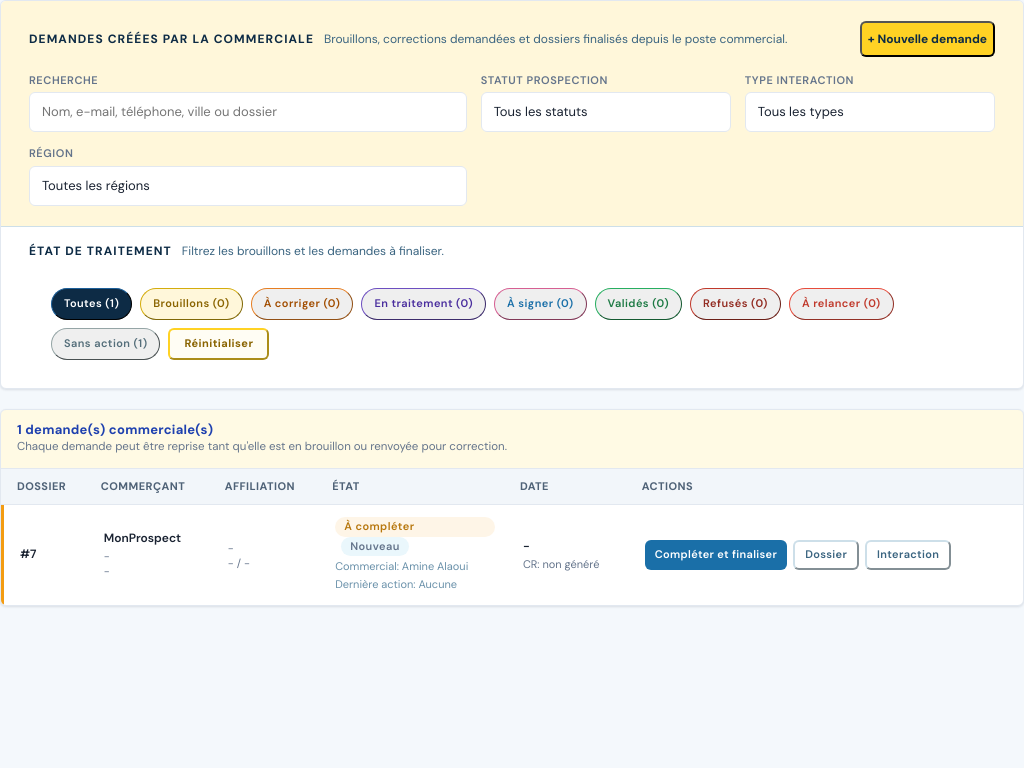
it: CommercialDirectRequestsPage › enregistre une interaction commerciale depuis le panneau de suivi
Expected: the text "MonProspect" is shown, x1=104 y1=530 x2=181 y2=546
Click the button "Interaction": (908, 555) x1=865 y1=540 x2=951 y2=570
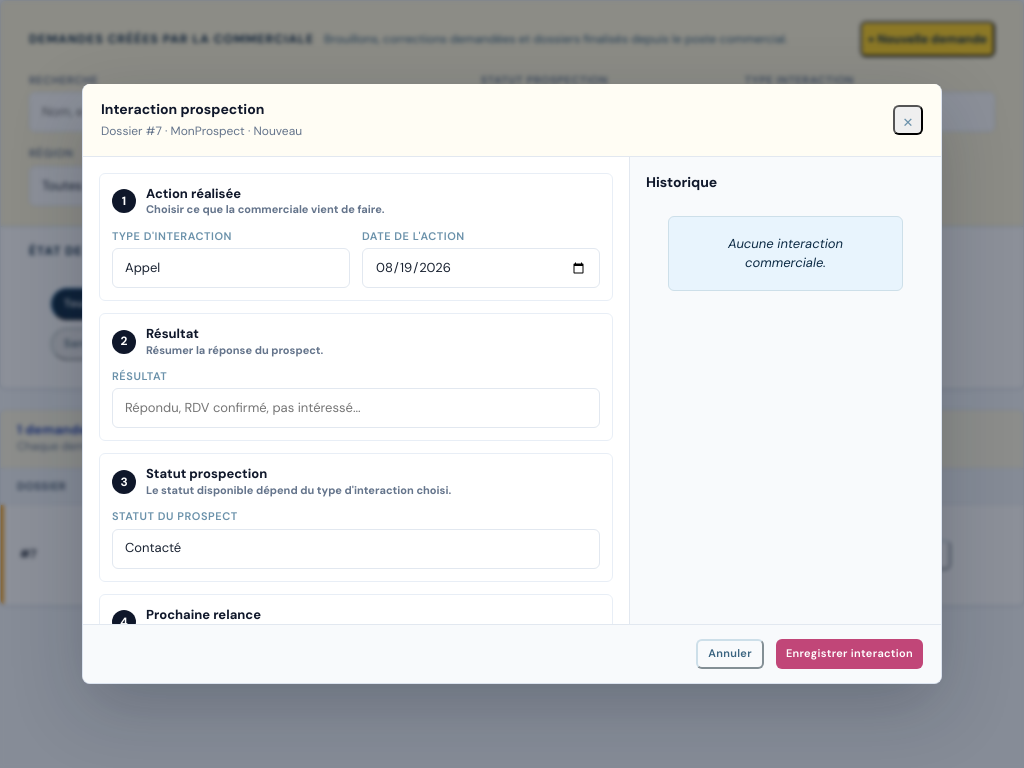
Expected: the text "Dossier #7 · MonProspect · Nouveau" is shown, x1=101 y1=123 x2=302 y2=140
In the field with placeholder "Répondu, RDV confirmé, pas intéressé...": (356, 408) x1=112 y1=388 x2=600 y2=428, type "Client interesse, rappel prevu"
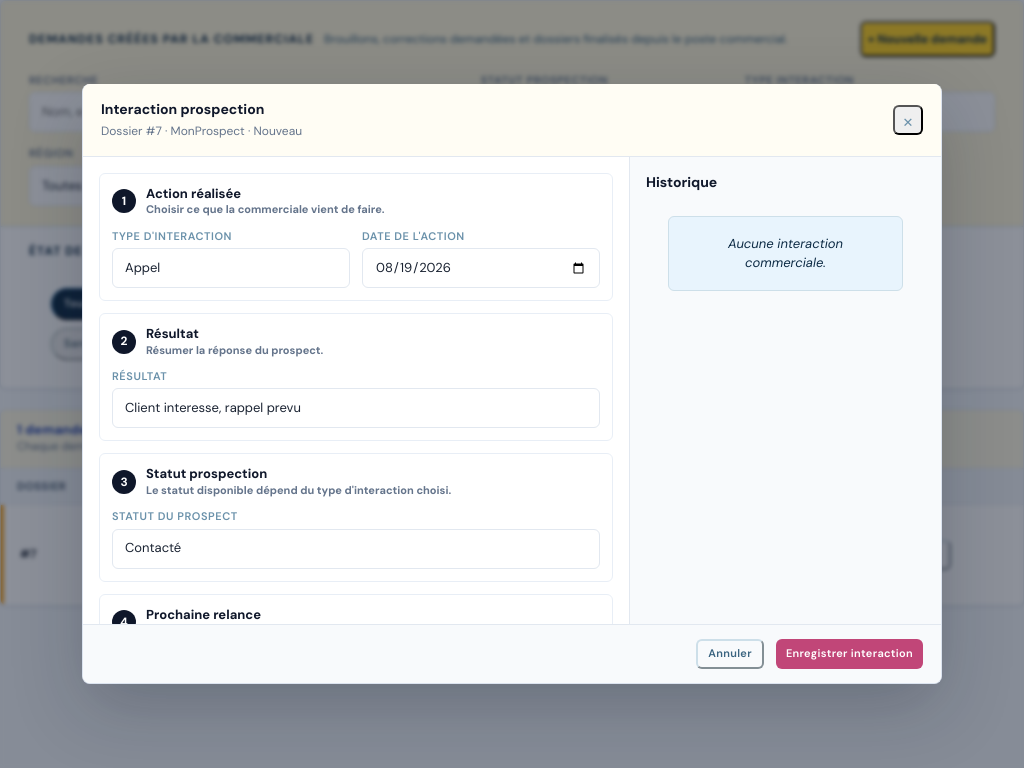
Click the button "Enregistrer interaction": (849, 654) x1=776 y1=638 x2=923 y2=668
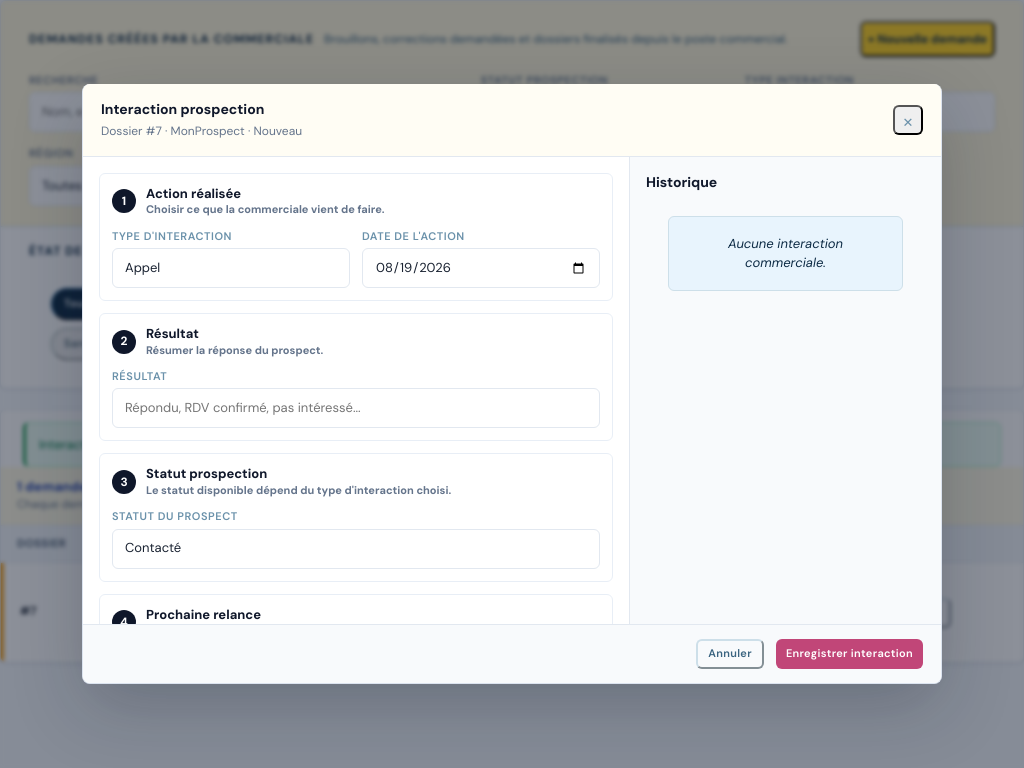
Expected: the text "Interaction commerciale enregistrée." is shown, x1=23 y1=422 x2=1001 y2=467
